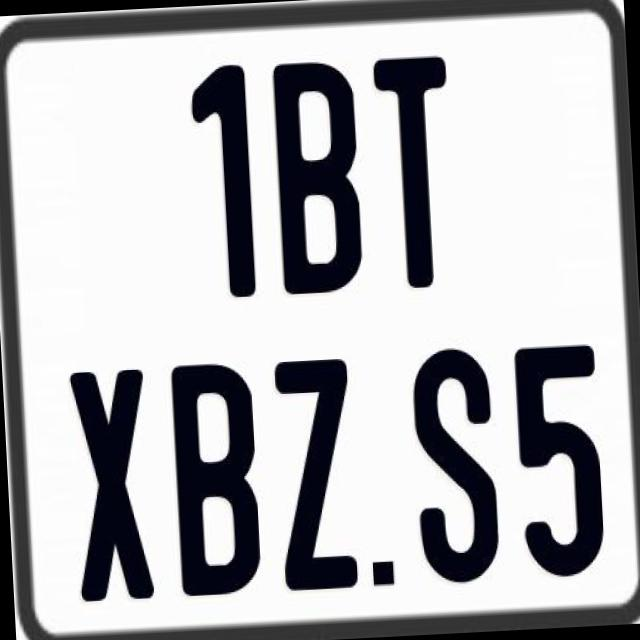1: (188, 60, 262, 302)
5: (512, 344, 608, 583)
B: (270, 61, 366, 300), (168, 357, 262, 598)
S: (411, 342, 507, 582)
T: (373, 54, 464, 292)
X: (68, 366, 154, 600)
Z: (274, 358, 362, 594)
